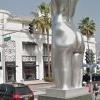Statue: (45, 4, 92, 94)
